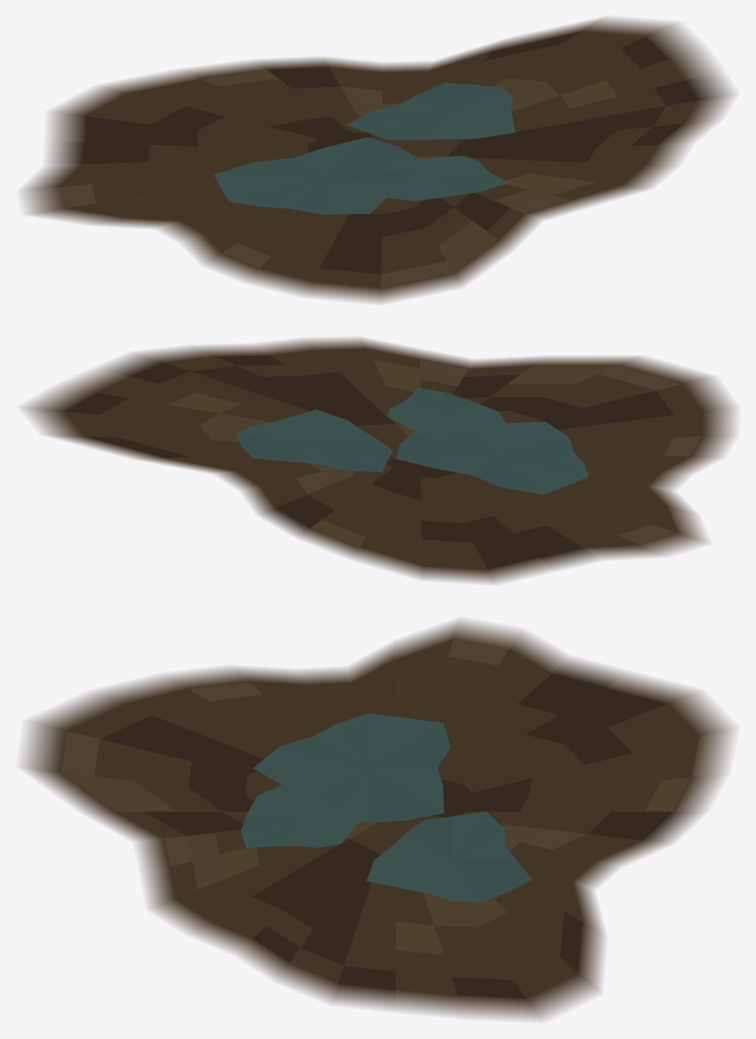
File: swamp_b.glb
3 views of the same model, one above another, from view 1: azimuth 30°, elevation 25°; view 2: azimuth 150°, elevation 25°; view 3: azimuth 270°, elevation 25° (orthographic). The views are drawn at different scales.
Visible parts, largest first — view 1: swamp_b; view 2: swamp_b; view 3: swamp_b.
Part boxes in pixels (<box>): swamp_b: <box>21,17,734,303</box>; swamp_b: <box>22,337,735,583</box>; swamp_b: <box>21,619,735,1020</box>.
Size of the model in its own units: 8.58 by 0.0151 by 6.44.
